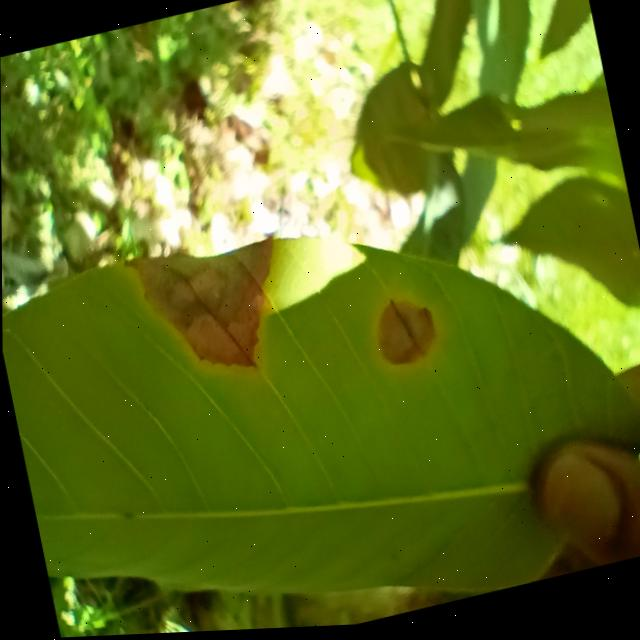Leaf-Blight: (125, 226, 297, 394), (371, 293, 442, 374)
